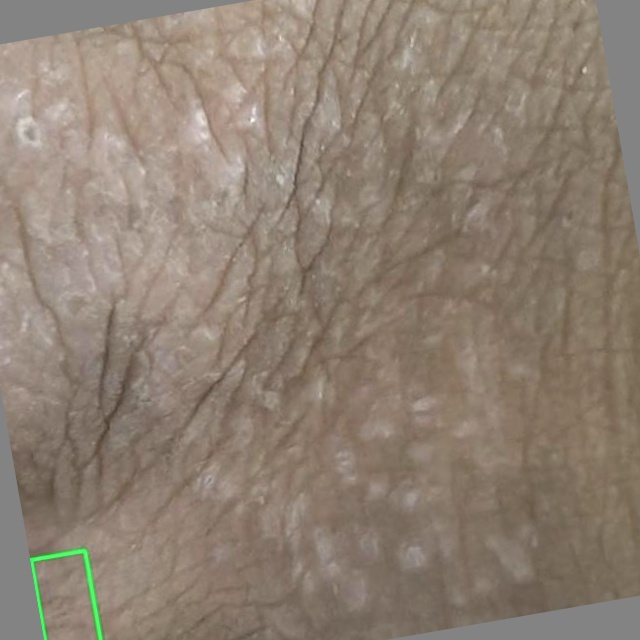Eczema: (30, 550, 100, 639)
